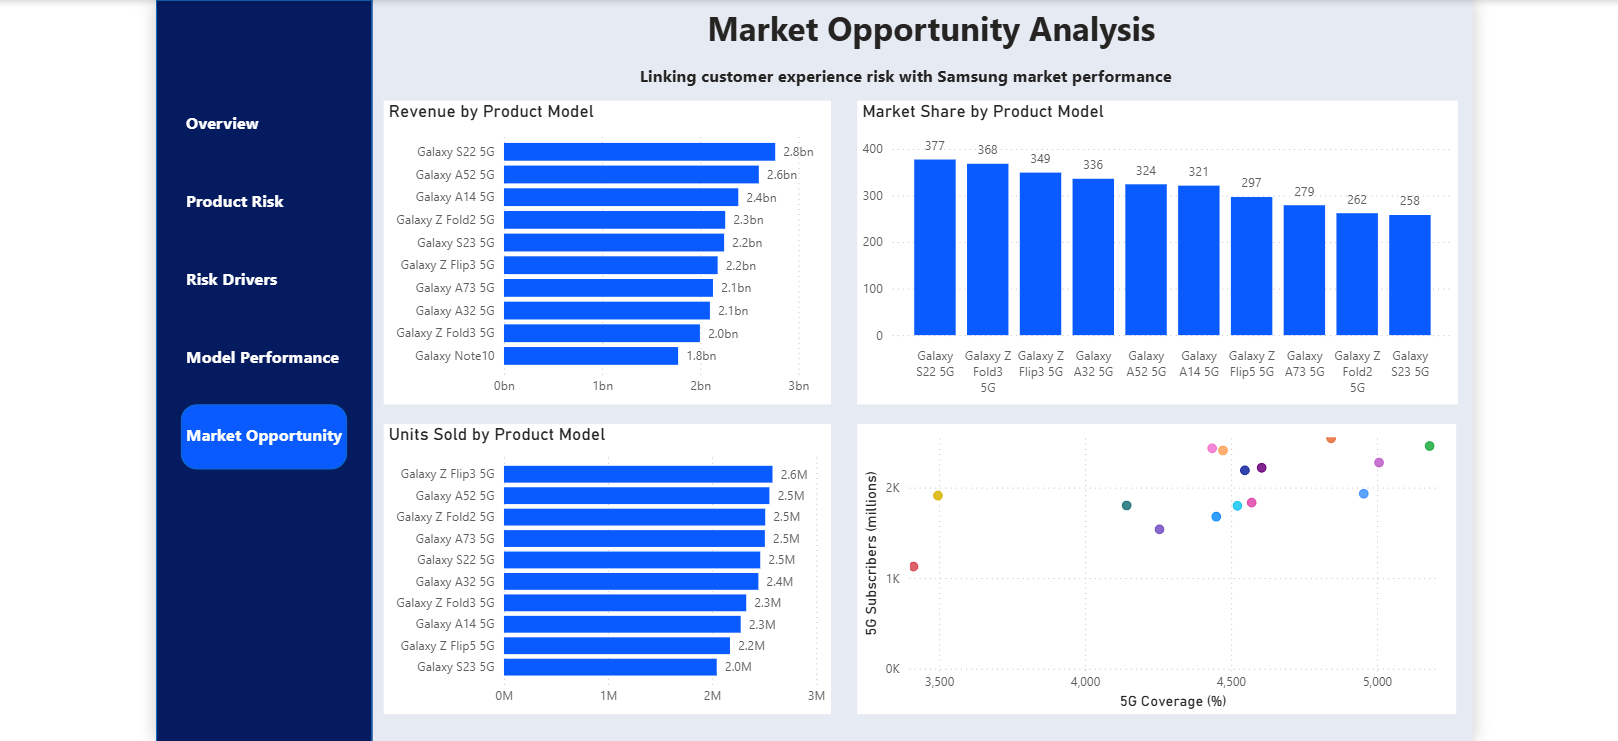

The dashboard page shown, as its layout file describes it:
{"tool":"powerbi","page":{"name":"Market Opportunity","canvas":[1280,720],"ordinal":4},"visuals":[{"type":"shape","box":[0,0,210,721.7],"z":0},{"type":"shape","box":[23.3,393.3,161.7,63.3],"z":1000},{"type":"clusteredBarChart","title":"Revenue by Product Model","fields":{"Category":["samsung_mobile_sales.Product Model"],"Y":["Sum(samsung_mobile_sales.Revenue ($))"]},"box":[221.2,97.8,434.4,294.9],"z":2000},{"type":"clusteredBarChart","title":"Units Sold by Product Model","fields":{"Category":["samsung_mobile_sales.Product Model"],"Y":["Sum(samsung_mobile_sales.Units Sold)"]},"box":[221.2,412,434.4,282.1],"z":3000},{"type":"clusteredColumnChart","title":"Market Share by Product Model","fields":{"Category":["samsung_mobile_sales.Product Model"],"Y":["Sum(samsung_mobile_sales.Market Share (%))"]},"box":[681.3,97.8,583.5,294.9],"z":4000},{"type":"textbox","box":[23.3,85,233.3,420],"z":5000},{"type":"scatterChart","title":"5G Readiness and Market Opportunity","fields":{"X":["Sum(samsung_mobile_sales.Regional 5G Coverage (%))"],"Y":["Sum(samsung_mobile_sales.5G Subscribers (millions))"],"Series":["samsung_mobile_sales.Product Model"]},"box":[681.3,412,581.9,282.1],"z":6000},{"type":"textbox","box":[530.6,0,472.9,57.7],"z":8000},{"type":"textbox","box":[464.9,57.7,605.9,36.9],"z":9000}]}

Visuals, with their boxes on the page's 1280x720 design canvas (x1, y1, x2, y2). These are canvas units, not pixel positions in the 1618x741 screenshot, which may show the page scaled, cropped or inside an application window:
shape: region(0, 0, 210, 722)
shape: region(23, 393, 185, 457)
"Revenue by Product Model" clusteredBarChart: region(221, 98, 656, 393)
"Units Sold by Product Model" clusteredBarChart: region(221, 412, 656, 694)
"Market Share by Product Model" clusteredColumnChart: region(681, 98, 1265, 393)
textbox: region(23, 85, 257, 505)
"5G Readiness and Market Opportunity" scatterChart: region(681, 412, 1263, 694)
textbox: region(531, 0, 1004, 58)
textbox: region(465, 58, 1071, 95)
